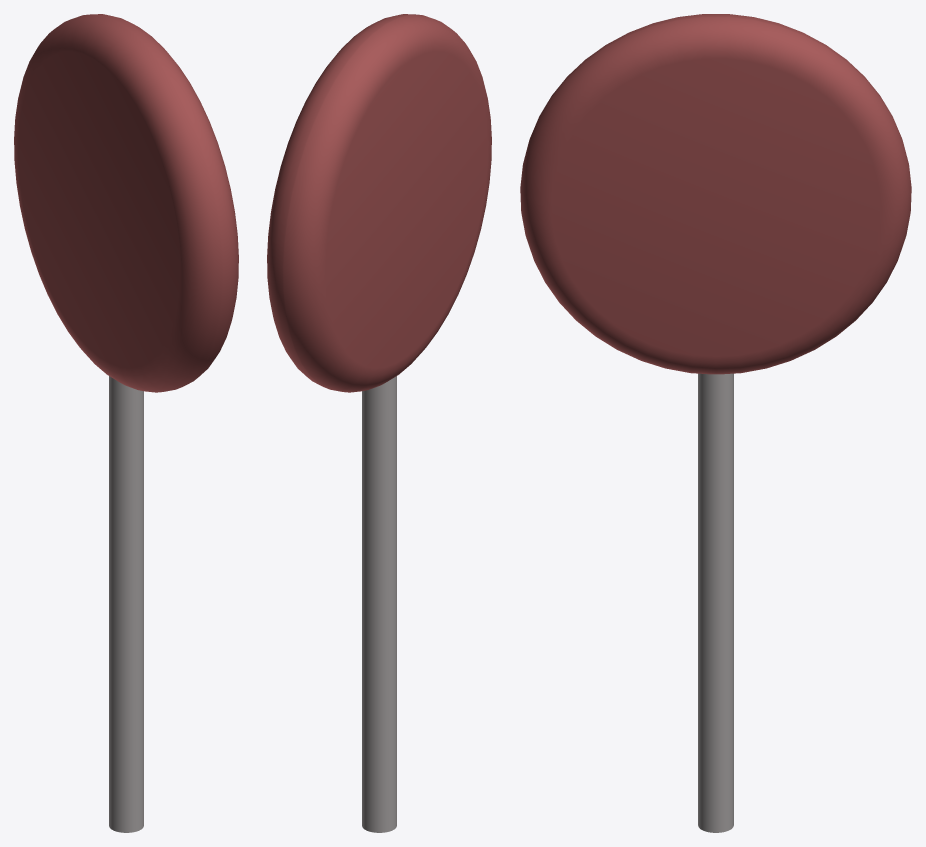
3 views of the same model, side by side, from view 1: azimuth 30°, elevation 25°; view 2: azimuth 150°, elevation 25°; view 3: azimuth 270°, elevation 25° (orthographic).
Parts seen in each view (by area): view 1: lollipop; view 2: lollipop; view 3: lollipop.
Boxes of the visible parts, bbox=[...] form: lollipop: bbox=[14, 14, 238, 832]; lollipop: bbox=[267, 14, 491, 832]; lollipop: bbox=[520, 14, 911, 832].
Size of the model in its own units: 0.00716 by 0.1 by 0.0439.
